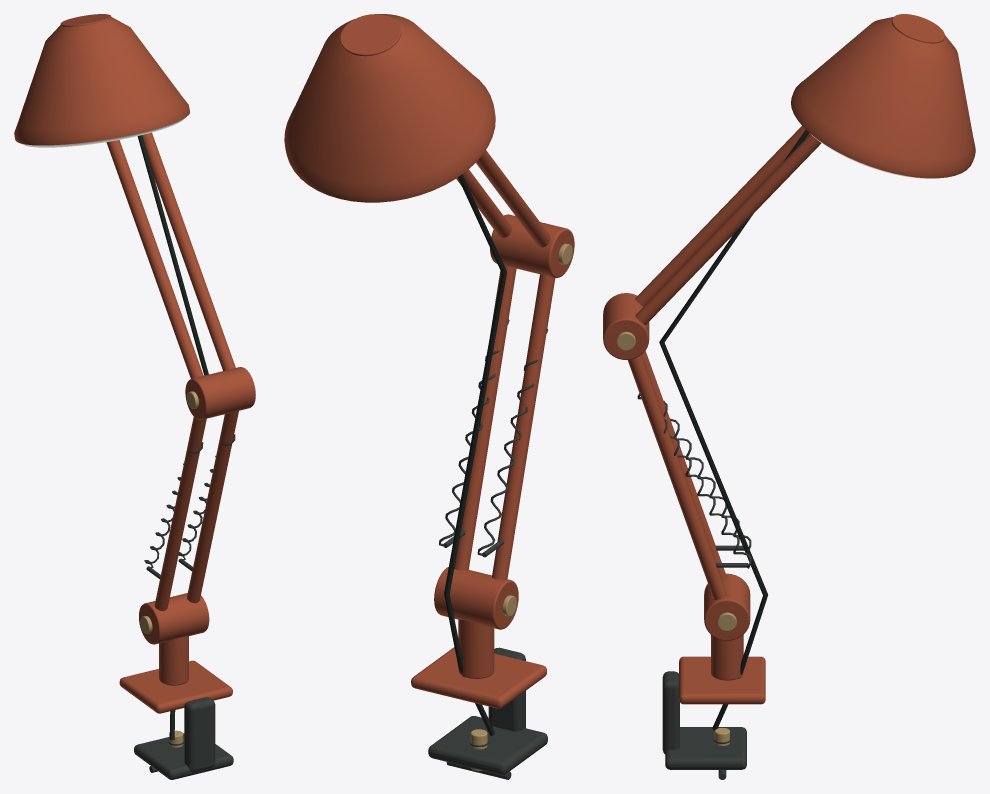
Rendered from lamp.glb.
3 renders of one model, left to right at view 1: azimuth 30°, elevation 25°; view 2: azimuth 150°, elevation 25°; view 3: azimuth 270°, elevation 25°, orthographic. The views are drawn at different scales.
Parts seen in each view (by area): view 1: lamp / Oxide red enamel, lamp / Warm graphite steel, lamp / Soft black feet, lamp / Brushed warm brass, lamp / Ivory reflector; view 2: lamp / Oxide red enamel, lamp / Warm graphite steel, lamp / Soft black feet, lamp / Brushed warm brass; view 3: lamp / Oxide red enamel, lamp / Warm graphite steel, lamp / Soft black feet, lamp / Brushed warm brass.
Part boxes in pixels (box(x1,y1,x2,y2)): lamp / Oxide red enamel: box(14, 14, 255, 713); lamp / Warm graphite steel: box(134, 434, 235, 779); lamp / Soft black feet: box(137, 135, 208, 739); lamp / Brushed warm brass: box(140, 391, 198, 747); lamp / Ivory reflector: box(19, 117, 185, 147); lamp / Oxide red enamel: box(284, 14, 574, 708); lamp / Warm graphite steel: box(428, 319, 547, 779); lamp / Soft black feet: box(444, 174, 506, 735); lamp / Brushed warm brass: box(470, 243, 572, 771); lamp / Oxide red enamel: box(603, 14, 975, 704); lamp / Warm graphite steel: box(637, 392, 751, 779); lamp / Soft black feet: box(659, 129, 808, 730); lamp / Brushed warm brass: box(616, 331, 736, 745).
Bounding box in the file's own units: 0.2 × 0.8564 × 0.3875.
